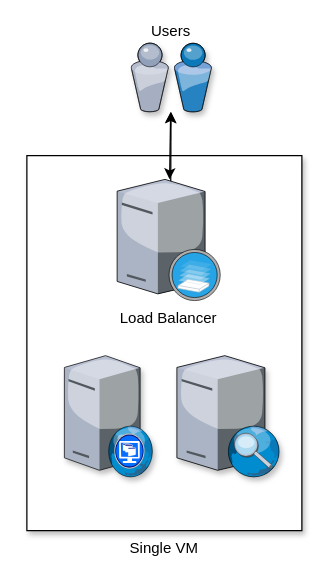
This 331x578 diagram has some shape labels left out. Each missing label, with the centre of its shape:
"Ansible" goes at (x=109, y=417).
"Pen Testing" goes at (x=229, y=417).
